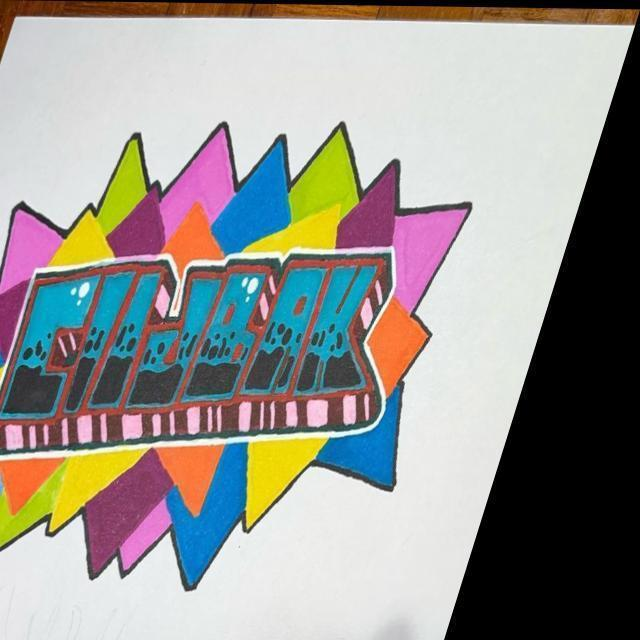nonspitting: (2, 119, 474, 594)
